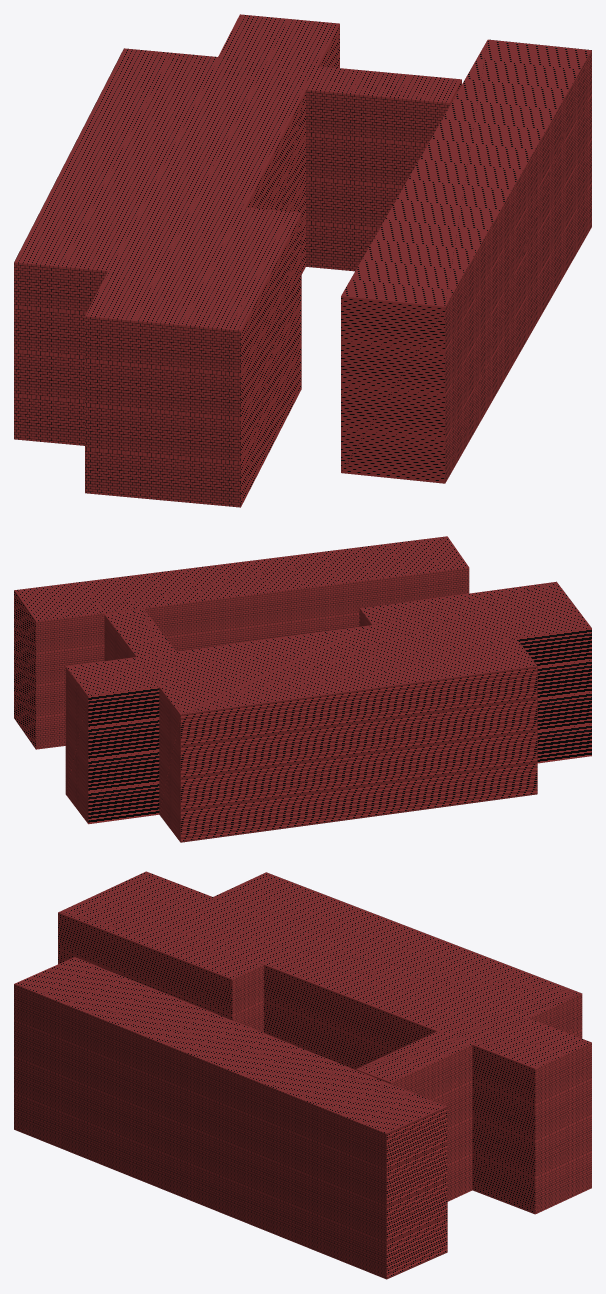
Rendered from jiaoxueloub4_b5.fbx.
The picture shows the model from 3 angles, top to bottom: view 1: azimuth 30°, elevation 25°; view 2: azimuth 150°, elevation 25°; view 3: azimuth 270°, elevation 25°; orthographic projection. The views are drawn at different scales.
Visible parts, largest first — view 1: CityEngineMaterial_m; view 2: CityEngineMaterial_m; view 3: CityEngineMaterial_m.
Boxes of the visible parts, left/top/right/bottom form: CityEngineMaterial_m: left=14, top=14, right=591, bottom=507; CityEngineMaterial_m: left=14, top=536, right=591, bottom=842; CityEngineMaterial_m: left=14, top=871, right=591, bottom=1279.
Size of the model in its own units: 77.27 by 20 by 71.92.
